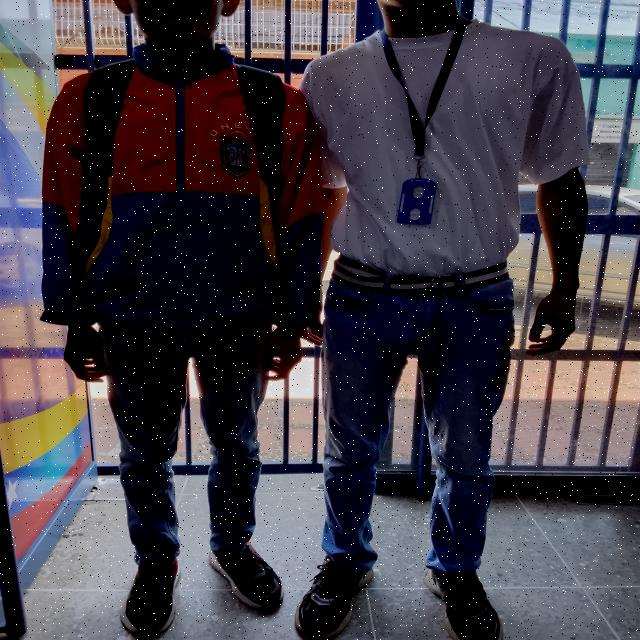carnet: (397, 179, 438, 224)
chaqueta_unefa: (40, 42, 328, 343)
